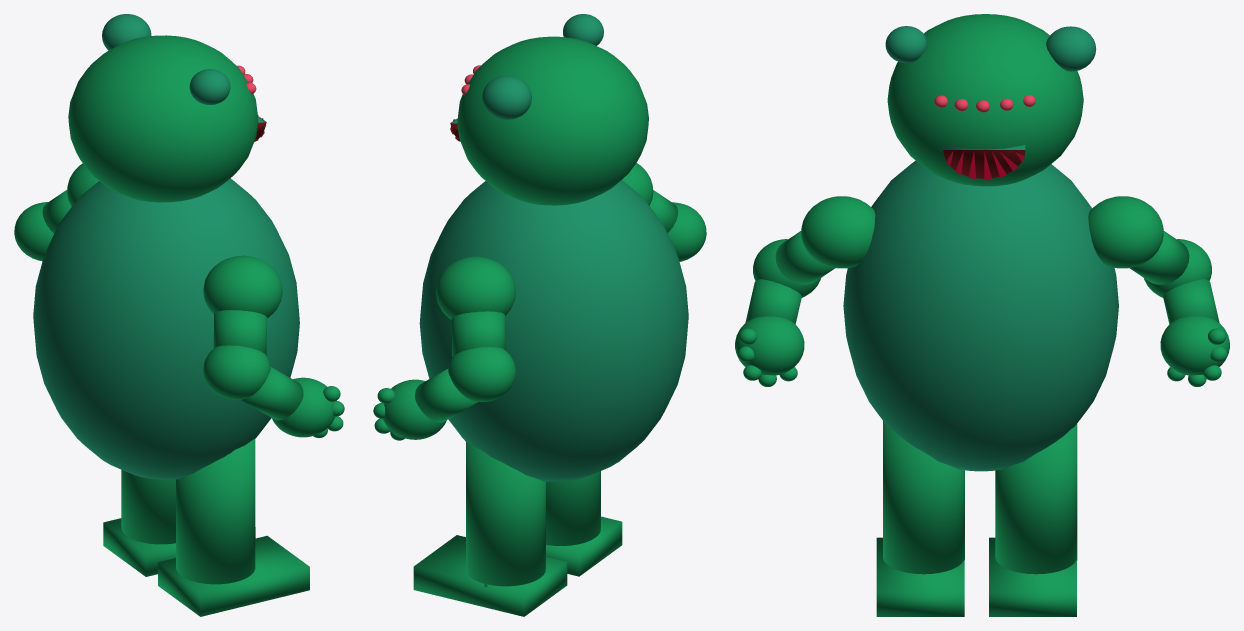
Rendered from tildamon.fbx.
3 renders of one model, left to right at view 1: azimuth 30°, elevation 25°; view 2: azimuth 150°, elevation 25°; view 3: azimuth 270°, elevation 25°, orthographic. The views are drawn at different scales.
Parts seen in each view (by area): view 1: body; view 2: body; view 3: body.
Part boxes in pixels (bbox=[...]): body: bbox=[14, 14, 344, 616]; body: bbox=[373, 14, 706, 616]; body: bbox=[735, 14, 1229, 616].
Size of the model in its own units: 137 by 76.26 by 167.
